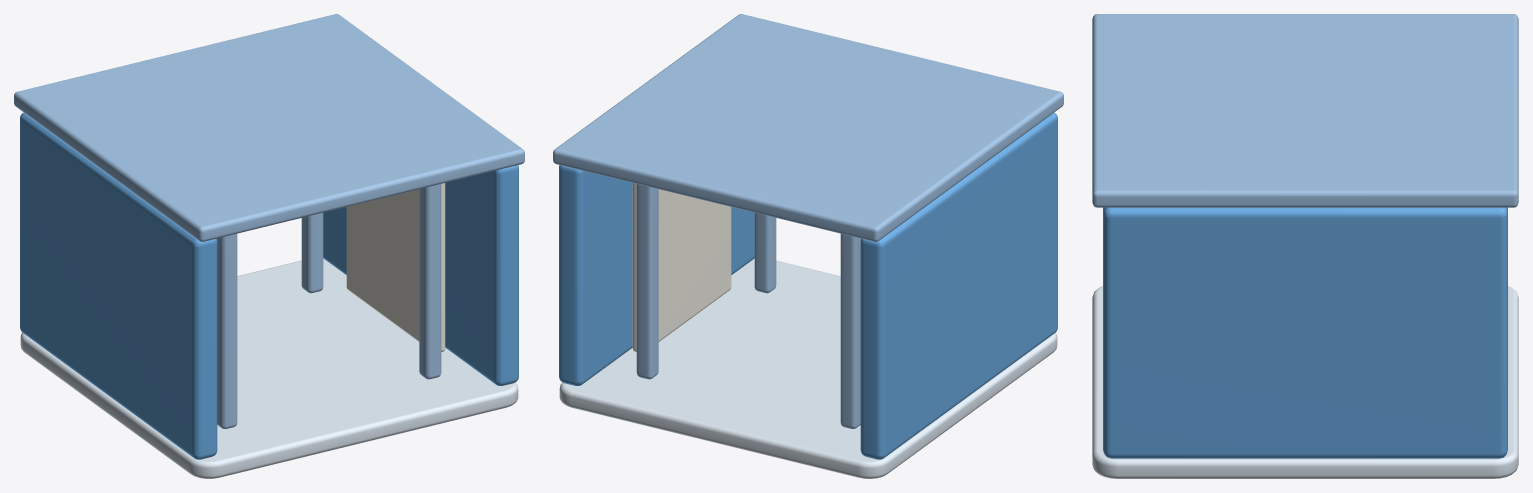
File: pcv_quarantine_airlock_room.glb
The picture shows the model from 3 angles, left to right: view 1: azimuth 30°, elevation 25°; view 2: azimuth 150°, elevation 25°; view 3: azimuth 270°, elevation 25°; orthographic projection. The views are drawn at different scales.
Parts seen in each view (by area): view 1: pcv_quarantine_airlock_room.roof_above_clearance, pcv_quarantine_airlock_room.side_enclosure_wall, pcv_quarantine_airlock_room.walk_surface_floor, pcv_quarantine_airlock_room.side_enclosure_wall.001, pcv_quarantine_airlock_room.parked_open_interlock_leaf.001, pcv_quarantine_airlock_room.clear_door_jamb.001, pcv_quarantine_airlock_room.clear_door_jamb, pcv_quarantine_airlock_room.clear_door_jamb.003; view 2: pcv_quarantine_airlock_room.roof_above_clearance, pcv_quarantine_airlock_room.side_enclosure_wall, pcv_quarantine_airlock_room.walk_surface_floor, pcv_quarantine_airlock_room.side_enclosure_wall.001, pcv_quarantine_airlock_room.parked_open_interlock_leaf.001, pcv_quarantine_airlock_room.clear_door_jamb.003, pcv_quarantine_airlock_room.clear_door_jamb.002, pcv_quarantine_airlock_room.clear_door_jamb.001; view 3: pcv_quarantine_airlock_room.side_enclosure_wall.001, pcv_quarantine_airlock_room.roof_above_clearance, pcv_quarantine_airlock_room.walk_surface_floor.
Boxes of the visible parts, x1,y1,x2,y2 form: pcv_quarantine_airlock_room.roof_above_clearance: (14, 14, 524, 241); pcv_quarantine_airlock_room.side_enclosure_wall: (20, 112, 217, 459); pcv_quarantine_airlock_room.walk_surface_floor: (20, 258, 518, 478); pcv_quarantine_airlock_room.side_enclosure_wall.001: (323, 165, 518, 385); pcv_quarantine_airlock_room.parked_open_interlock_leaf.001: (346, 183, 445, 351); pcv_quarantine_airlock_room.clear_door_jamb.001: (419, 184, 441, 379); pcv_quarantine_airlock_room.clear_door_jamb: (217, 233, 237, 428); pcv_quarantine_airlock_room.clear_door_jamb.003: (301, 213, 323, 293); pcv_quarantine_airlock_room.roof_above_clearance: (553, 14, 1063, 241); pcv_quarantine_airlock_room.side_enclosure_wall: (860, 112, 1057, 459); pcv_quarantine_airlock_room.walk_surface_floor: (559, 258, 1057, 478); pcv_quarantine_airlock_room.side_enclosure_wall.001: (559, 165, 754, 385); pcv_quarantine_airlock_room.parked_open_interlock_leaf.001: (632, 183, 731, 351); pcv_quarantine_airlock_room.clear_door_jamb.003: (636, 184, 658, 379); pcv_quarantine_airlock_room.clear_door_jamb.002: (840, 233, 860, 428); pcv_quarantine_airlock_room.clear_door_jamb.001: (754, 213, 776, 293); pcv_quarantine_airlock_room.side_enclosure_wall.001: (1103, 207, 1507, 458); pcv_quarantine_airlock_room.roof_above_clearance: (1092, 14, 1518, 207); pcv_quarantine_airlock_room.walk_surface_floor: (1092, 286, 1518, 478).
Bounding box in the file's own units: 4 × 2.99 × 4.
